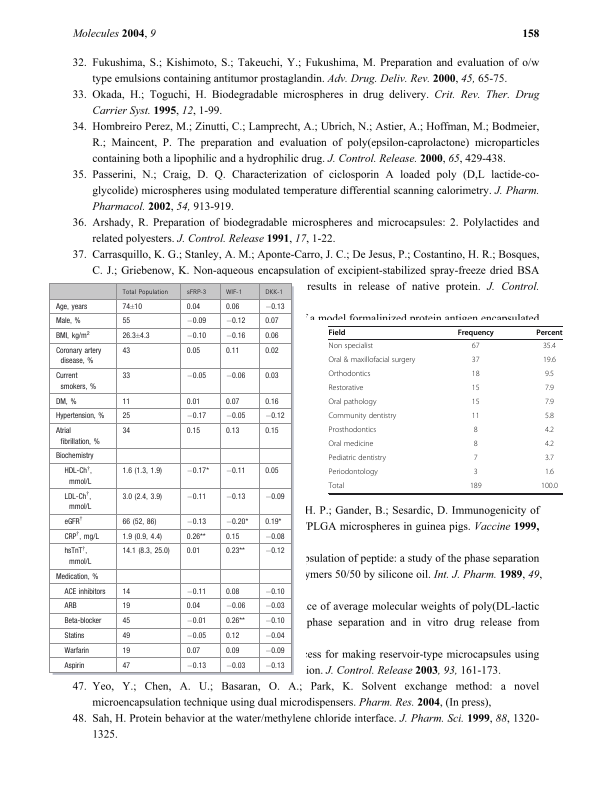bordered: (49, 281, 291, 672)
borderless: (327, 325, 562, 493)
cell: (54, 347, 102, 366), (328, 356, 416, 366), (54, 427, 100, 446), (54, 372, 97, 392), (328, 412, 397, 422), (63, 465, 92, 487), (63, 491, 92, 512), (63, 546, 92, 567), (328, 454, 387, 464), (328, 468, 379, 478), (328, 398, 377, 408), (328, 426, 377, 436), (328, 342, 374, 352), (328, 440, 374, 450), (54, 412, 105, 421), (121, 547, 170, 556), (328, 370, 371, 380), (54, 572, 99, 581), (54, 330, 90, 341), (63, 587, 106, 596), (121, 467, 163, 476), (121, 492, 163, 501), (121, 532, 163, 541), (121, 289, 168, 297), (328, 384, 364, 394), (54, 452, 94, 461), (121, 517, 157, 527), (63, 531, 99, 541), (63, 617, 102, 626), (457, 329, 495, 338), (54, 302, 88, 311), (121, 332, 150, 341), (535, 329, 563, 338), (224, 517, 249, 527), (54, 317, 81, 326), (63, 646, 90, 655), (63, 516, 83, 527), (185, 517, 207, 527), (63, 631, 85, 641), (185, 631, 207, 641), (185, 467, 209, 476), (264, 631, 285, 641), (54, 397, 77, 406), (121, 302, 143, 311), (185, 317, 207, 326), (224, 317, 246, 326), (185, 332, 207, 341), (224, 332, 246, 341), (185, 372, 207, 381), (224, 372, 246, 381), (185, 412, 207, 421), (224, 412, 246, 421), (224, 467, 246, 476), (185, 492, 207, 501), (224, 492, 246, 501), (185, 587, 207, 596), (224, 602, 246, 611), (185, 617, 207, 626), (63, 661, 85, 670), (185, 661, 207, 670), (224, 661, 246, 670), (540, 482, 559, 492), (264, 302, 285, 311), (264, 412, 285, 421), (264, 492, 285, 501), (185, 532, 206, 541), (264, 532, 285, 541), (224, 547, 245, 556), (264, 547, 285, 556), (264, 587, 285, 596), (264, 602, 285, 611), (224, 617, 245, 626), (264, 617, 285, 626), (264, 646, 285, 655), (264, 661, 285, 670), (264, 517, 282, 527), (185, 289, 207, 297), (328, 482, 345, 492), (328, 329, 346, 338), (224, 631, 240, 641), (264, 289, 283, 297), (542, 342, 557, 352), (542, 356, 557, 366), (224, 289, 242, 297), (185, 302, 201, 311), (224, 302, 240, 311), (185, 347, 201, 356), (224, 347, 240, 356), (185, 397, 201, 406), (224, 397, 240, 406), (185, 427, 201, 436), (224, 427, 240, 436), (224, 532, 240, 541), (185, 547, 201, 556), (224, 587, 240, 596), (185, 602, 201, 611), (185, 646, 201, 655), (224, 646, 240, 655), (264, 317, 279, 326), (264, 332, 279, 341), (264, 347, 279, 356), (264, 372, 279, 381), (264, 397, 279, 406), (264, 427, 279, 436), (264, 467, 279, 476), (469, 482, 482, 492), (63, 602, 77, 611), (544, 370, 555, 380), (544, 384, 555, 394), (544, 398, 555, 408), (544, 412, 555, 422), (544, 426, 555, 436), (544, 440, 555, 450), (544, 454, 555, 464), (544, 468, 555, 478), (121, 631, 131, 641), (471, 342, 480, 352), (471, 356, 480, 366), (471, 370, 480, 380), (471, 384, 480, 394), (471, 398, 480, 408), (471, 412, 480, 422), (121, 317, 131, 326), (121, 347, 131, 356), (121, 372, 131, 381), (121, 397, 131, 406), (121, 412, 131, 421), (121, 427, 131, 436), (121, 587, 131, 596), (121, 602, 131, 611), (121, 617, 131, 626), (121, 646, 131, 655), (121, 661, 131, 670), (473, 426, 479, 436), (473, 440, 479, 450), (473, 454, 479, 464), (473, 468, 479, 478)
